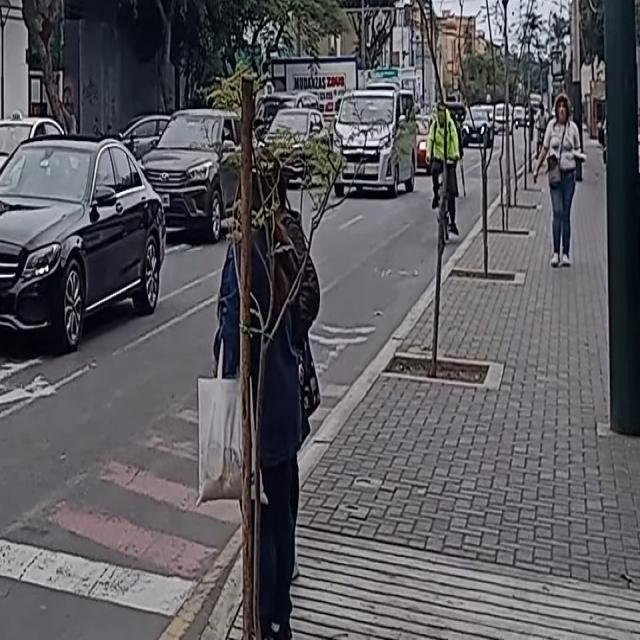car: (0, 135, 167, 349), (140, 108, 252, 233), (331, 89, 417, 197), (0, 115, 67, 221), (260, 109, 330, 180), (461, 106, 494, 146), (494, 102, 513, 134)
